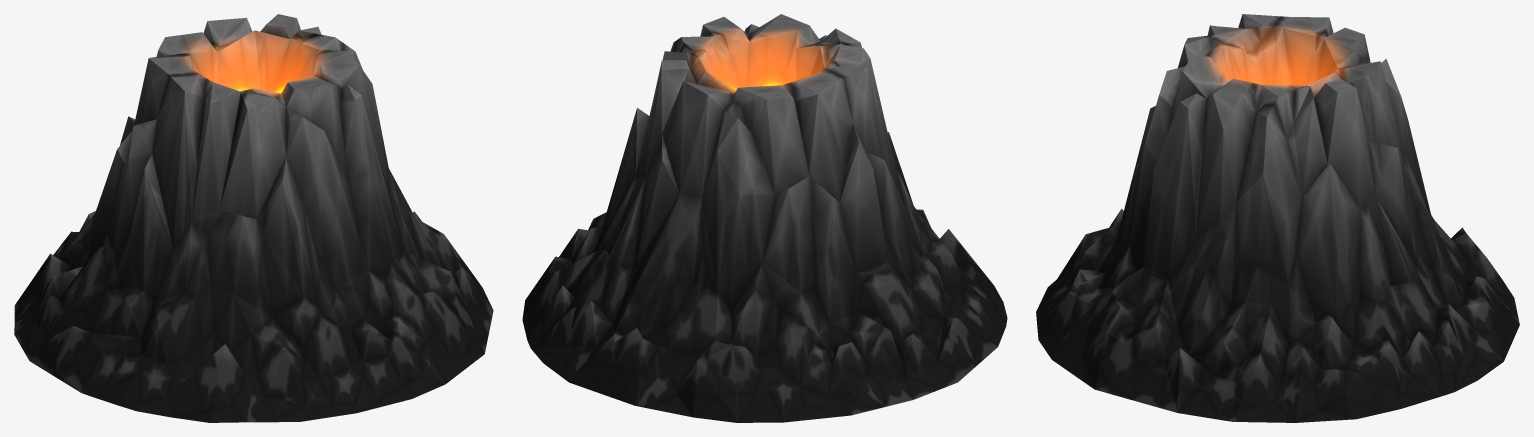
Rendered from Volcano 2.fbx.
3 renders of one model, left to right at view 1: azimuth 30°, elevation 25°; view 2: azimuth 150°, elevation 25°; view 3: azimuth 270°, elevation 25°, orthographic.
Visible parts, largest first — view 1: Volcano2; view 2: Volcano2; view 3: Volcano2.
Part boxes in pixels (<box>): Volcano2: <box>14,14,493,422</box>; Volcano2: <box>522,14,1007,422</box>; Volcano2: <box>1036,14,1519,422</box>.
Size of the model in its own units: 892 by 539 by 891.
